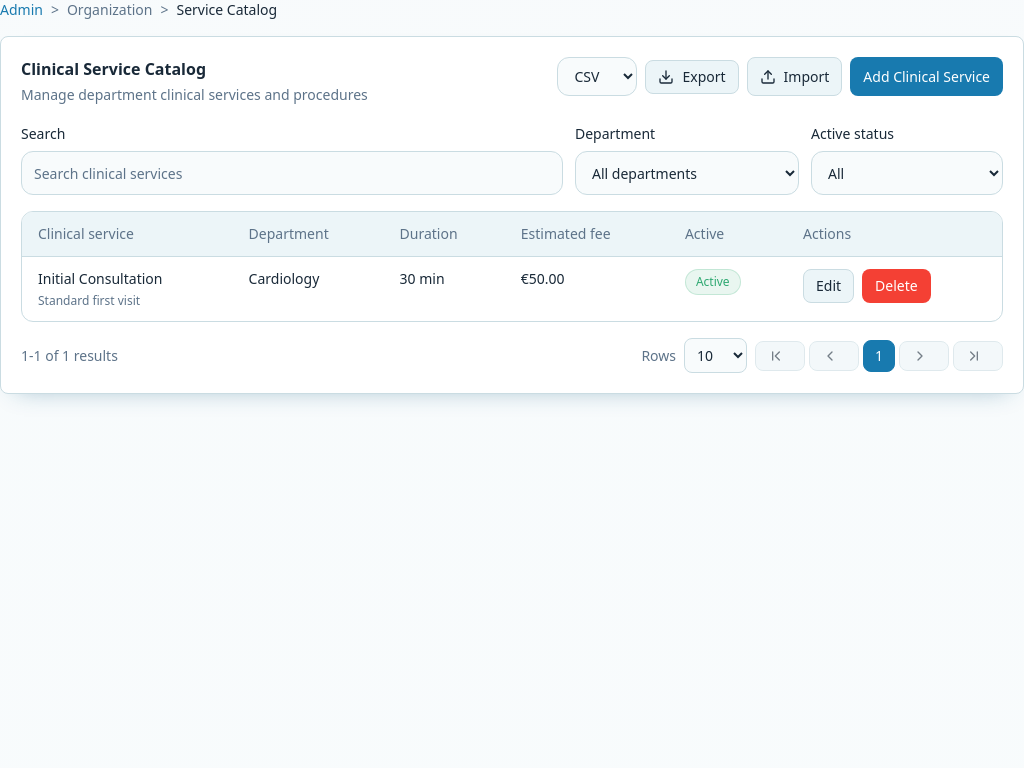
Test: ServicesPage › shows the backend conflict message when delete is blocked
Check: the text "Initial Consultation" is shown, box [38, 269, 162, 288]
Step 1. Click the button "Delete" → {"x": 896, "y": 286}, box [862, 269, 931, 303]
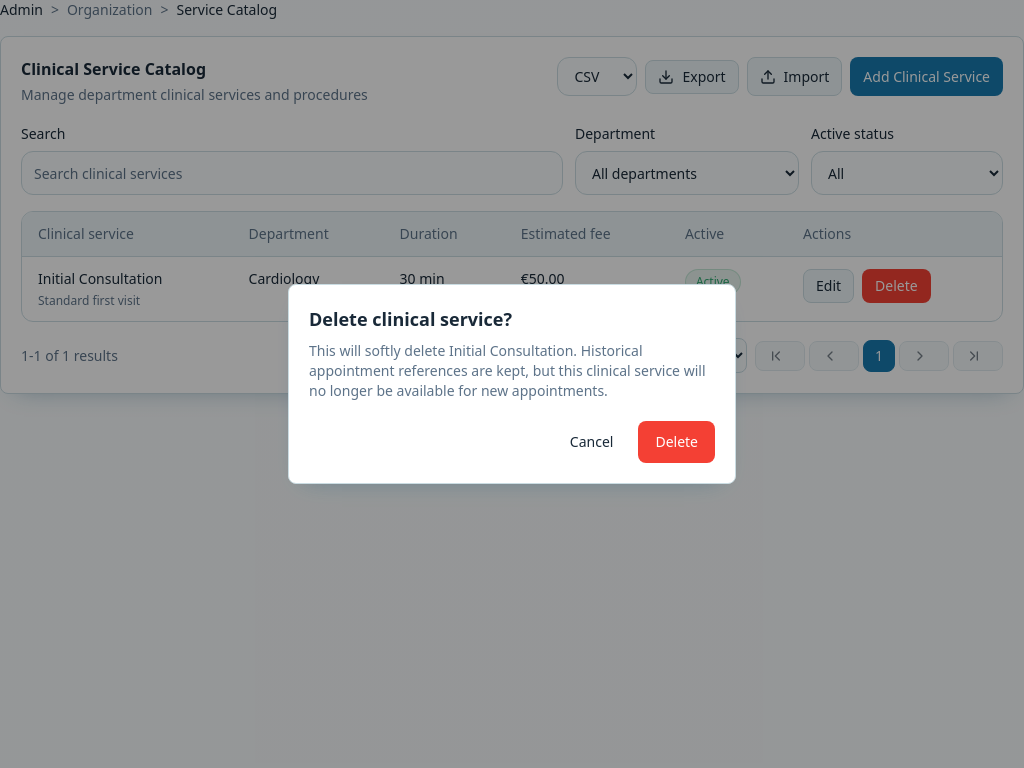
Step 2. Click the button "Delete" → {"x": 677, "y": 442}, box [638, 421, 715, 463]
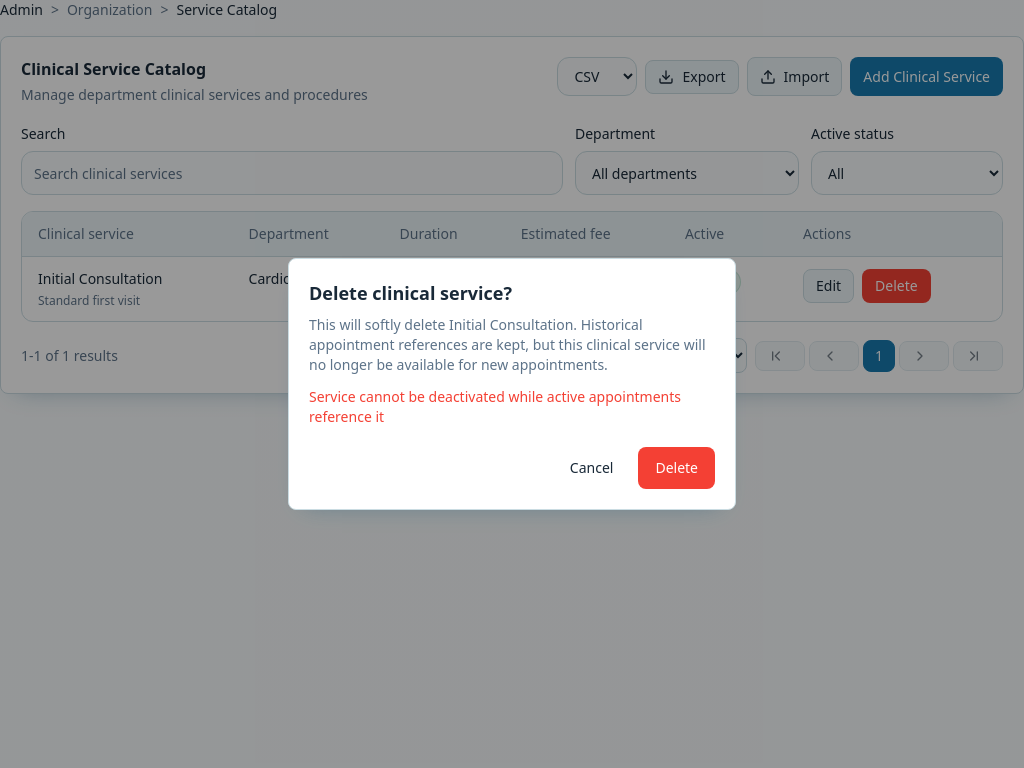
Check: the text "Service cannot be deactivated while active appointments reference it" is shown, box [309, 387, 715, 427]
